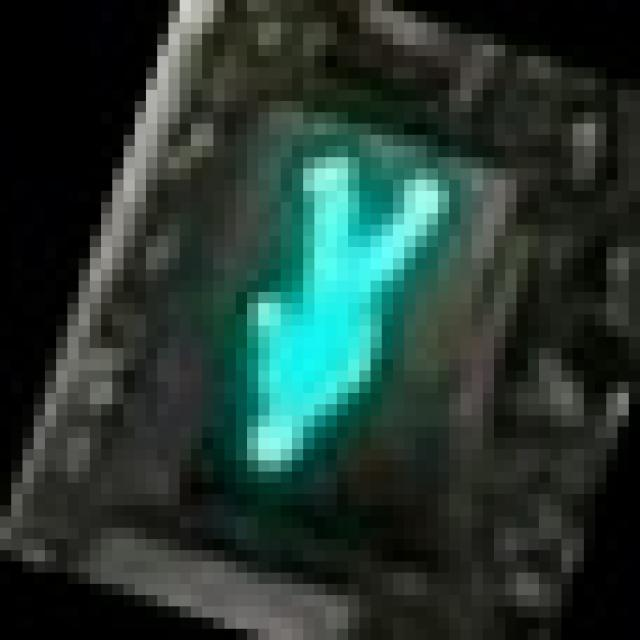geen-crossing: (90, 56, 506, 550)
